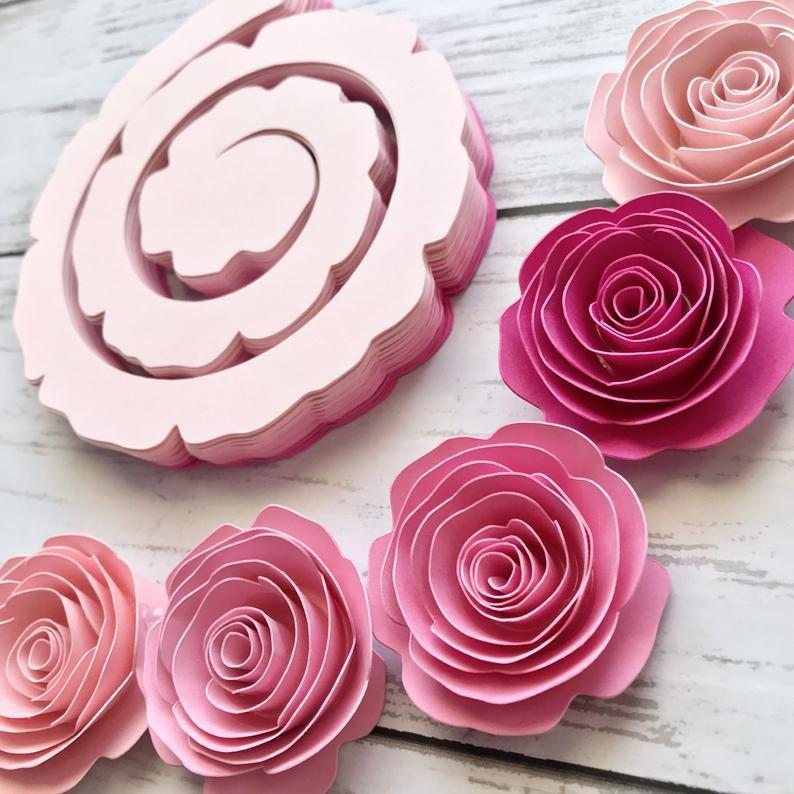Rose: (361, 387, 680, 757), (521, 200, 794, 464), (144, 495, 367, 794), (572, 2, 794, 224), (0, 505, 154, 794)
